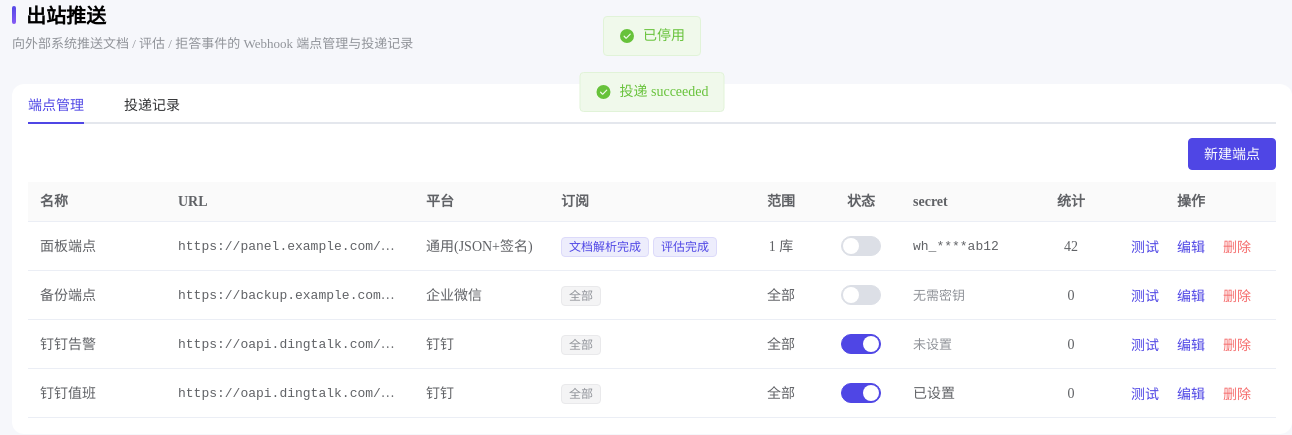
Test case: WebhooksPage › deliveries tab lists rows with status tags
Click the tab "投递记录".
click(152, 106)  # box top-left (124, 98), bottom-right (180, 113)
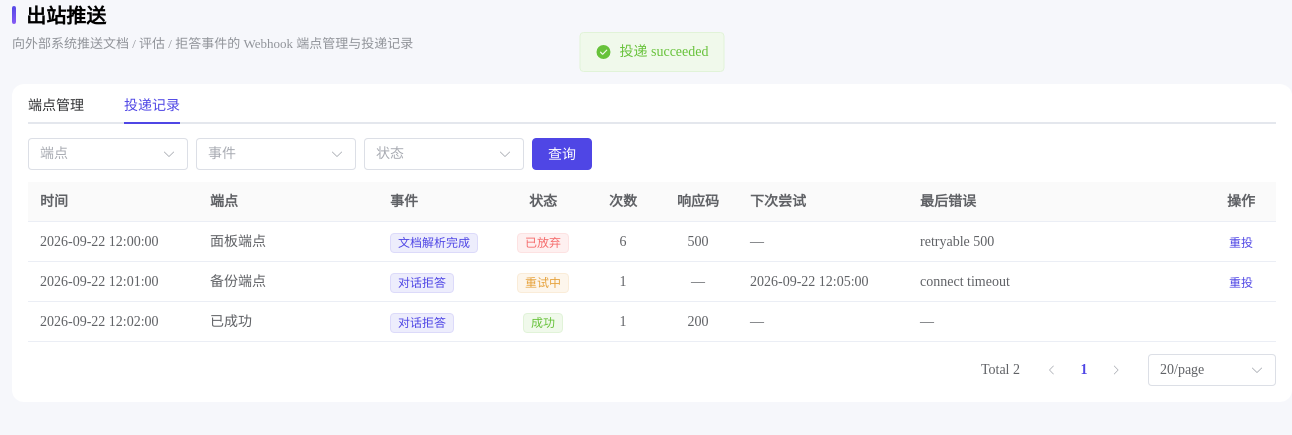
Expected: the element showing "已放弃" is shown, top-left (517, 233), bottom-right (569, 253)
Expected: the element showing "重试中" is shown, top-left (517, 273), bottom-right (569, 293)
